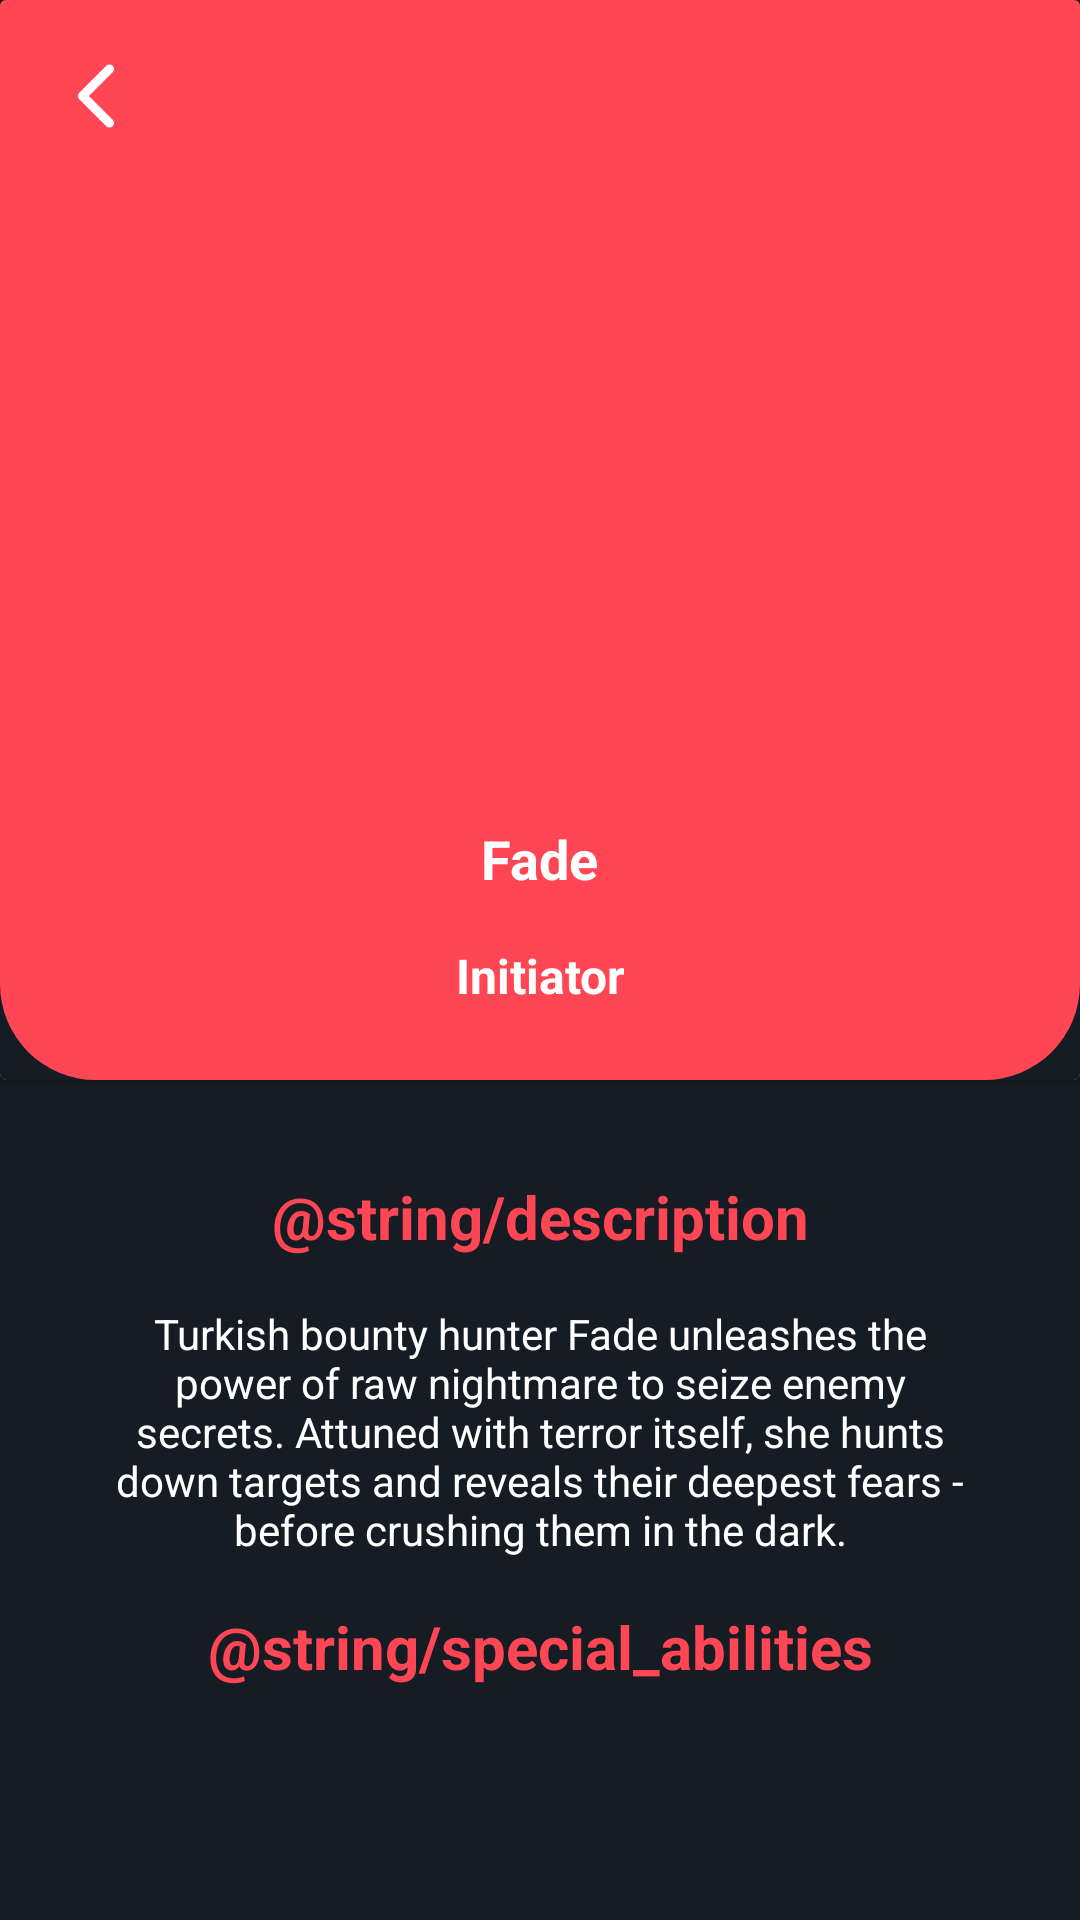

Icons on this 1080×1920 Android screen, each with the point to tap as (x=x, y=y):
back: (x=96, y=96)
